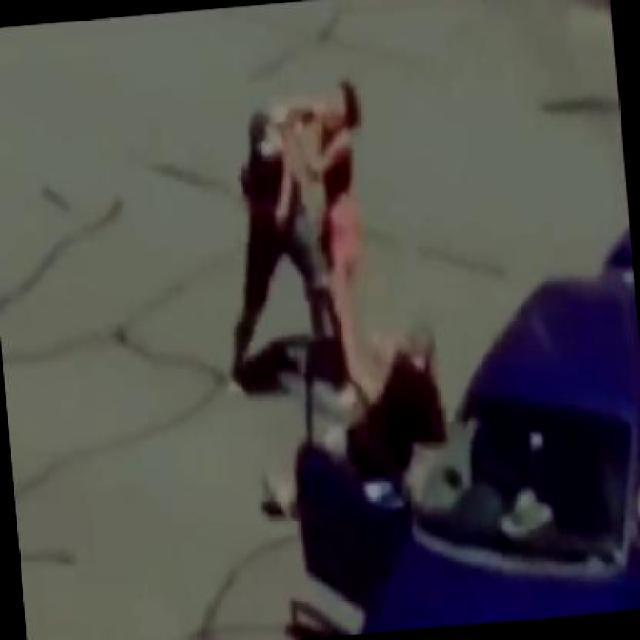fight: (217, 70, 380, 353)
